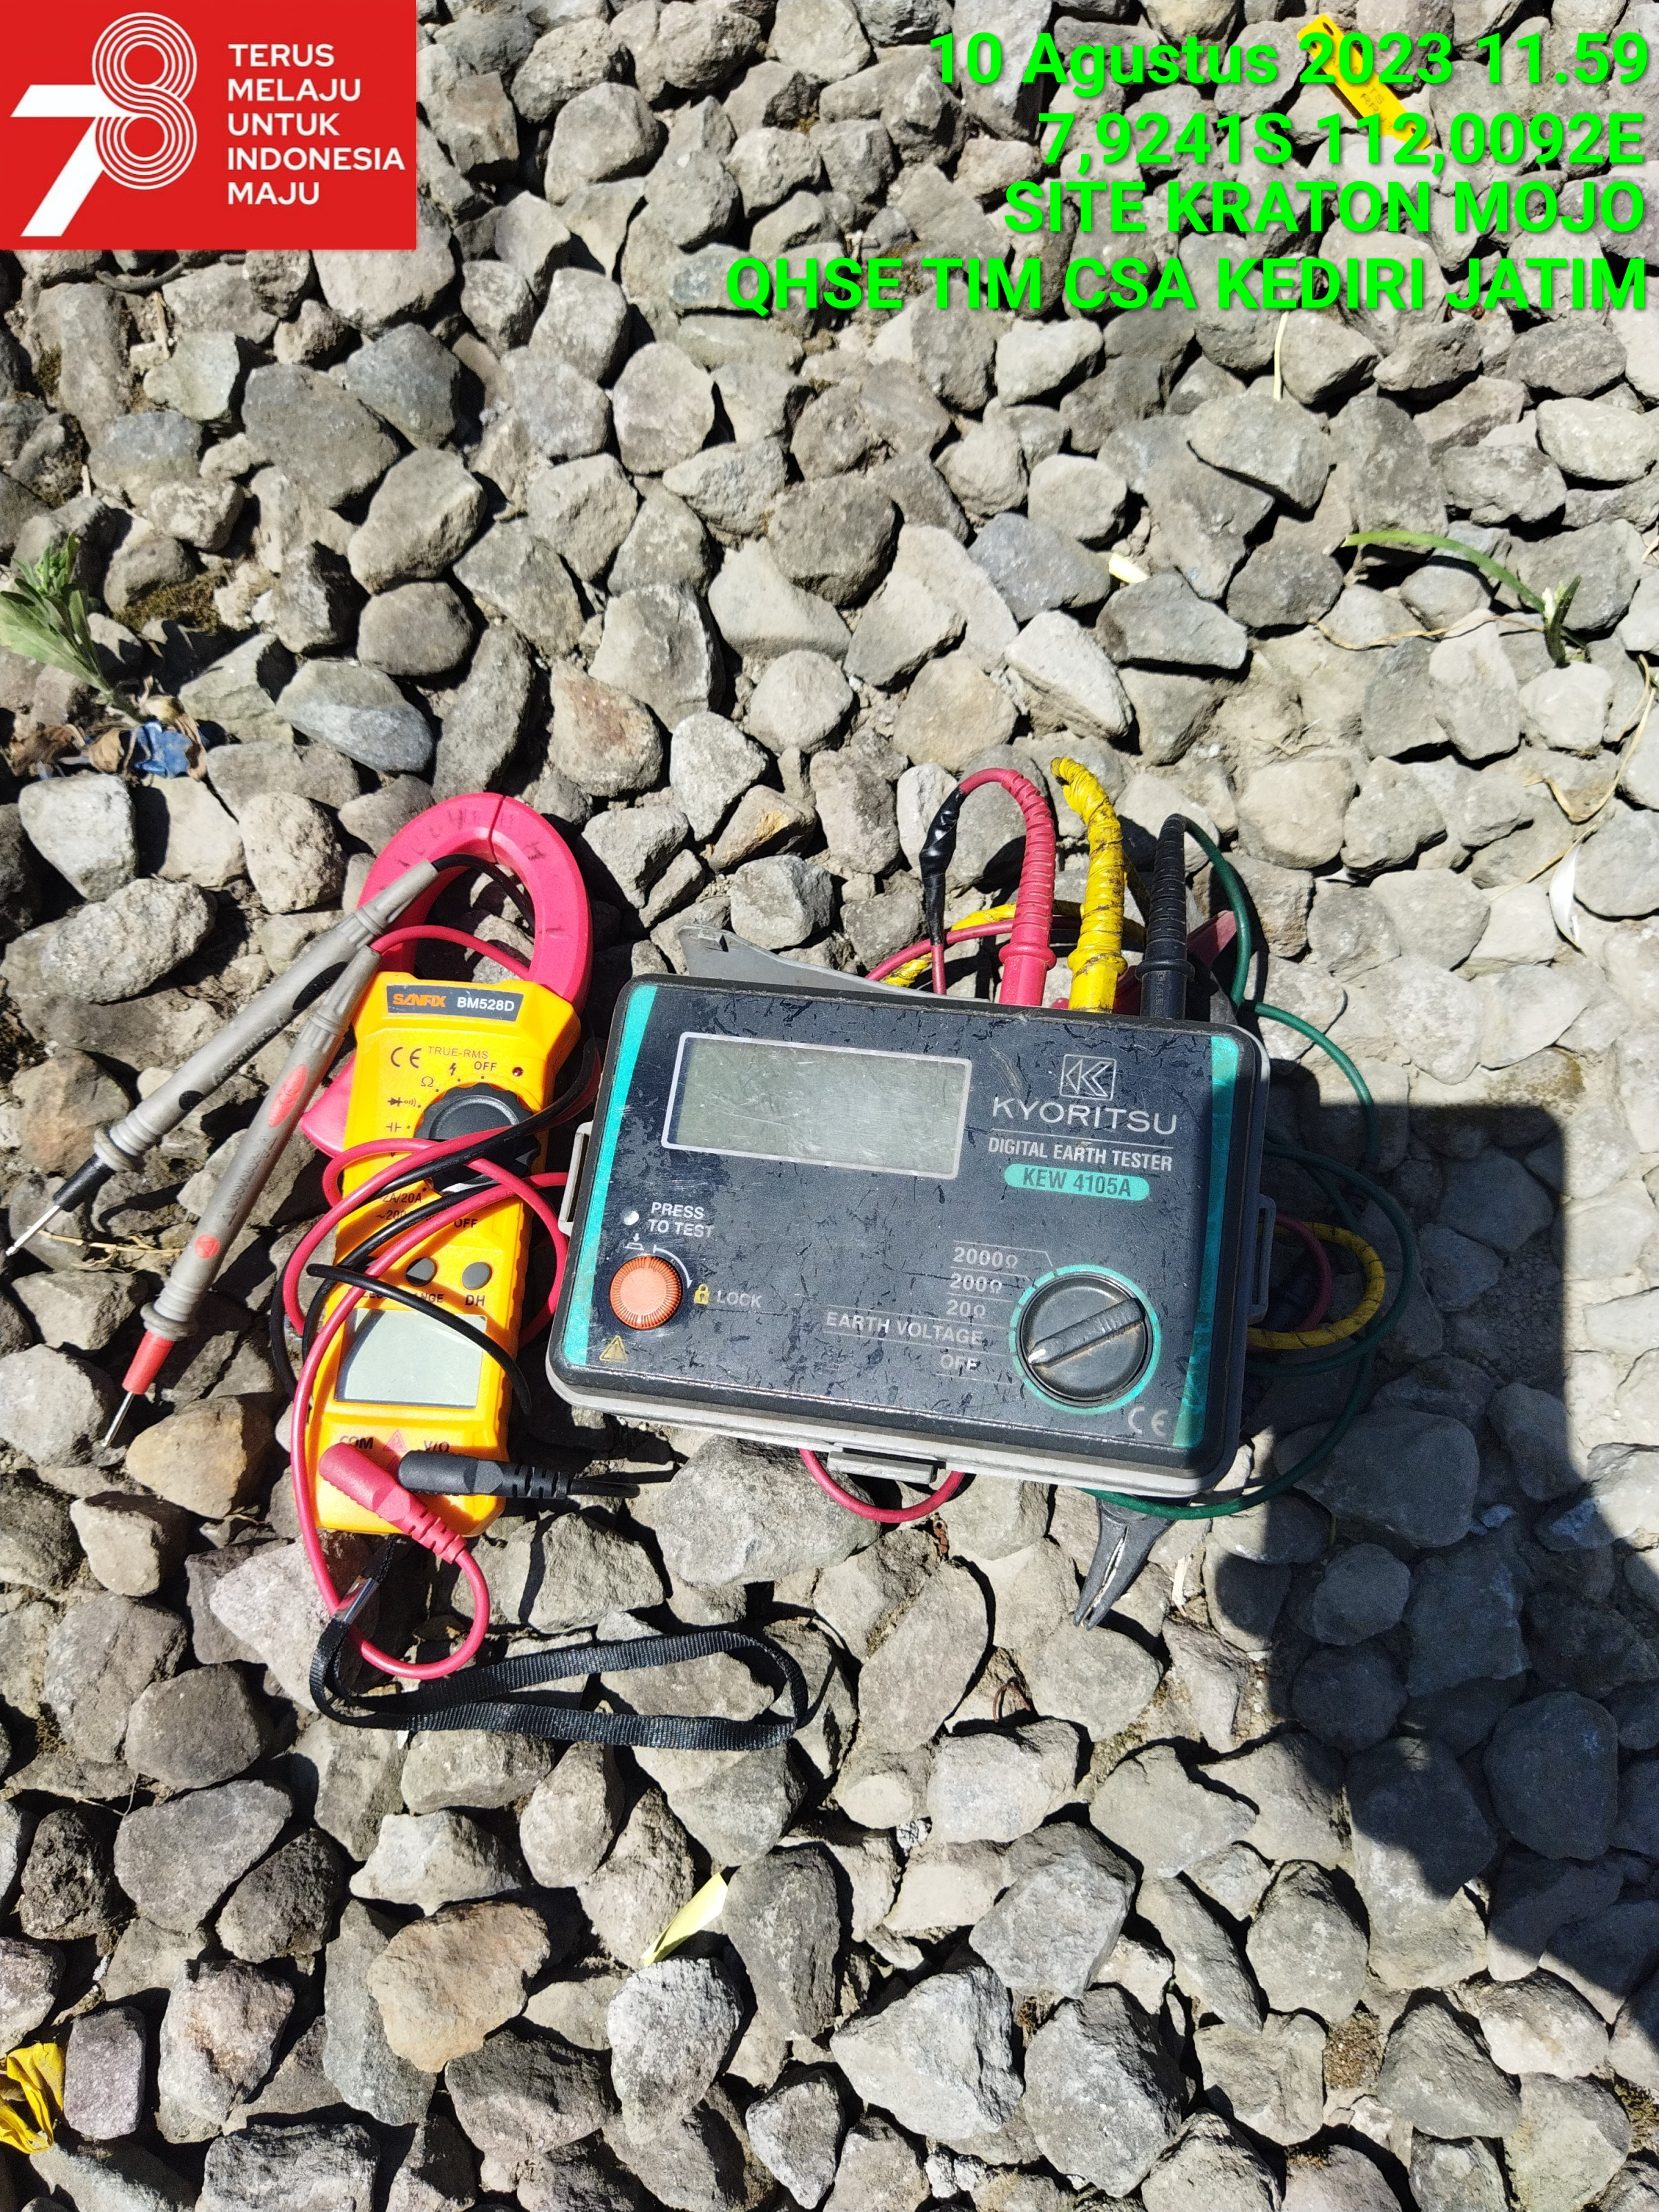EARTH_GROUNDING_TESTER: (537, 963, 1246, 1493)
TANG_AMPERE: (295, 787, 594, 1545)
